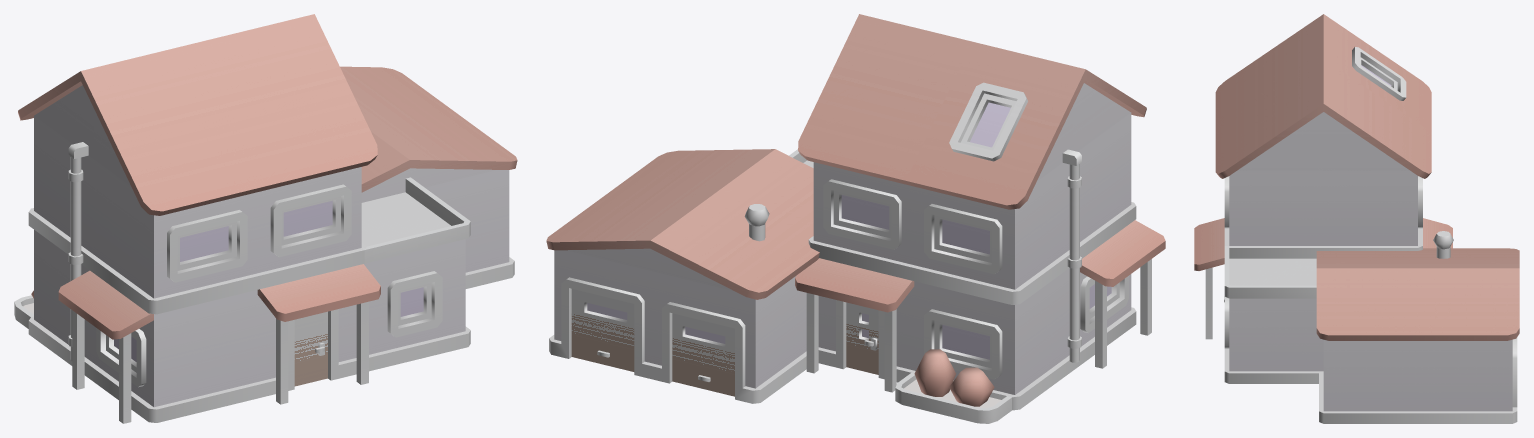
Rendered from suburban-building-type-n.glb.
The picture shows the model from 3 angles, left to right: view 1: azimuth 30°, elevation 25°; view 2: azimuth 150°, elevation 25°; view 3: azimuth 270°, elevation 25°; orthographic projection. The views are drawn at different scales.
Parts seen in each view (by area): view 1: building-type-n; view 2: building-type-n; view 3: building-type-n.
Part boxes in pixels (x1,y1,x2,y2): building-type-n: (14,14,517,423); building-type-n: (546,14,1165,423); building-type-n: (1194,14,1519,423).
Bounding box in the file's own units: 1.78 × 1.14 × 1.38.
Materials: 1 (1 with a texture image).
